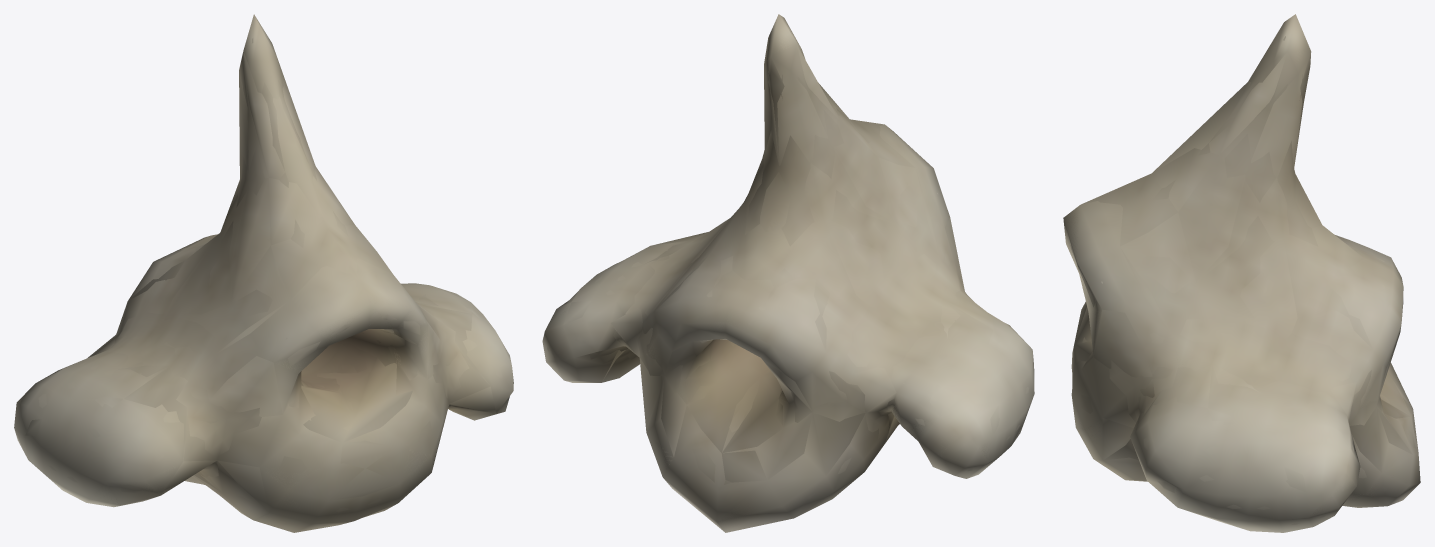
Rendered from vertebrae thoracicae 09.fbx.
The picture shows the model from 3 angles, left to right: view 1: azimuth 30°, elevation 25°; view 2: azimuth 150°, elevation 25°; view 3: azimuth 270°, elevation 25°; orthographic projection.
Visible parts, largest first — view 1: vertebrae thoracicae 09, vertebrae thoracicae 09 low, vertebrae thoracicae 09 high; view 2: vertebrae thoracicae 09, vertebrae thoracicae 09 low, vertebrae thoracicae 09 high; view 3: vertebrae thoracicae 09, vertebrae thoracicae 09 low, vertebrae thoracicae 09 high.
Part boxes in pixels (x1,y1,x2,y2): vertebrae thoracicae 09: (14,14,513,532); vertebrae thoracicae 09 low: (16,52,508,522); vertebrae thoracicae 09 high: (37,35,507,526); vertebrae thoracicae 09: (542,14,1034,532); vertebrae thoracicae 09 low: (543,18,1000,530); vertebrae thoracicae 09 high: (547,30,1029,499); vertebrae thoracicae 09: (1063,14,1420,532); vertebrae thoracicae 09 low: (1064,51,1414,518); vertebrae thoracicae 09 high: (1070,36,1415,524).
Size of the model in its own units: 1.4 by 1.46 by 0.9726.
Materials: 1 (1 with a texture image).
